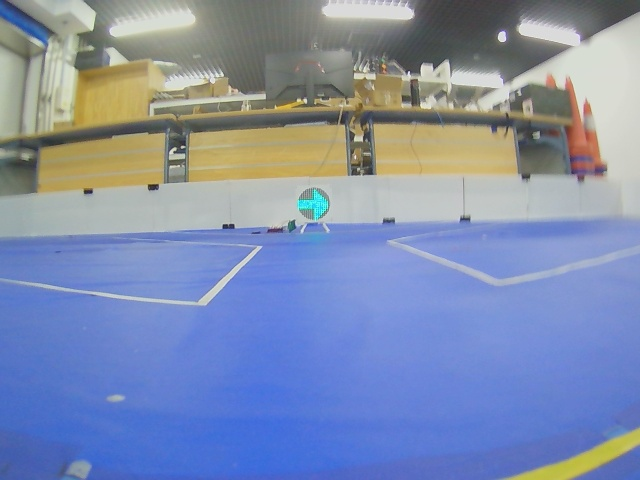right_green: (297, 187, 330, 221)
